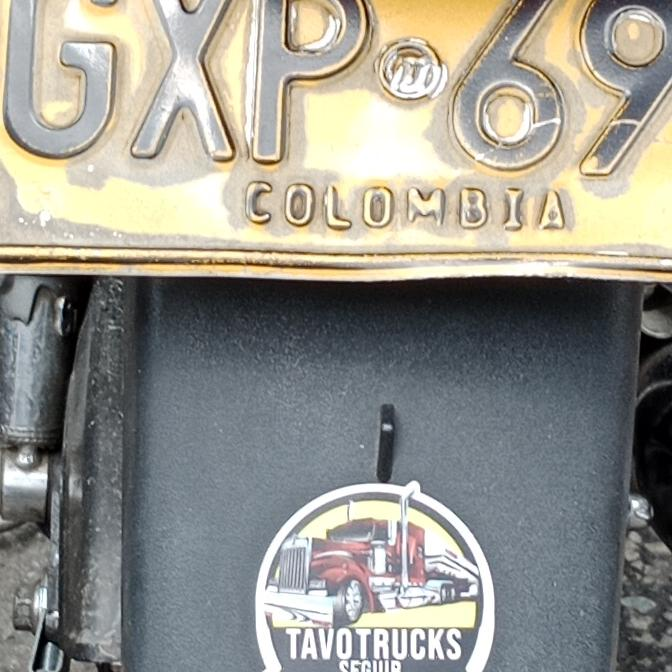plates: (0, 0, 672, 299)
